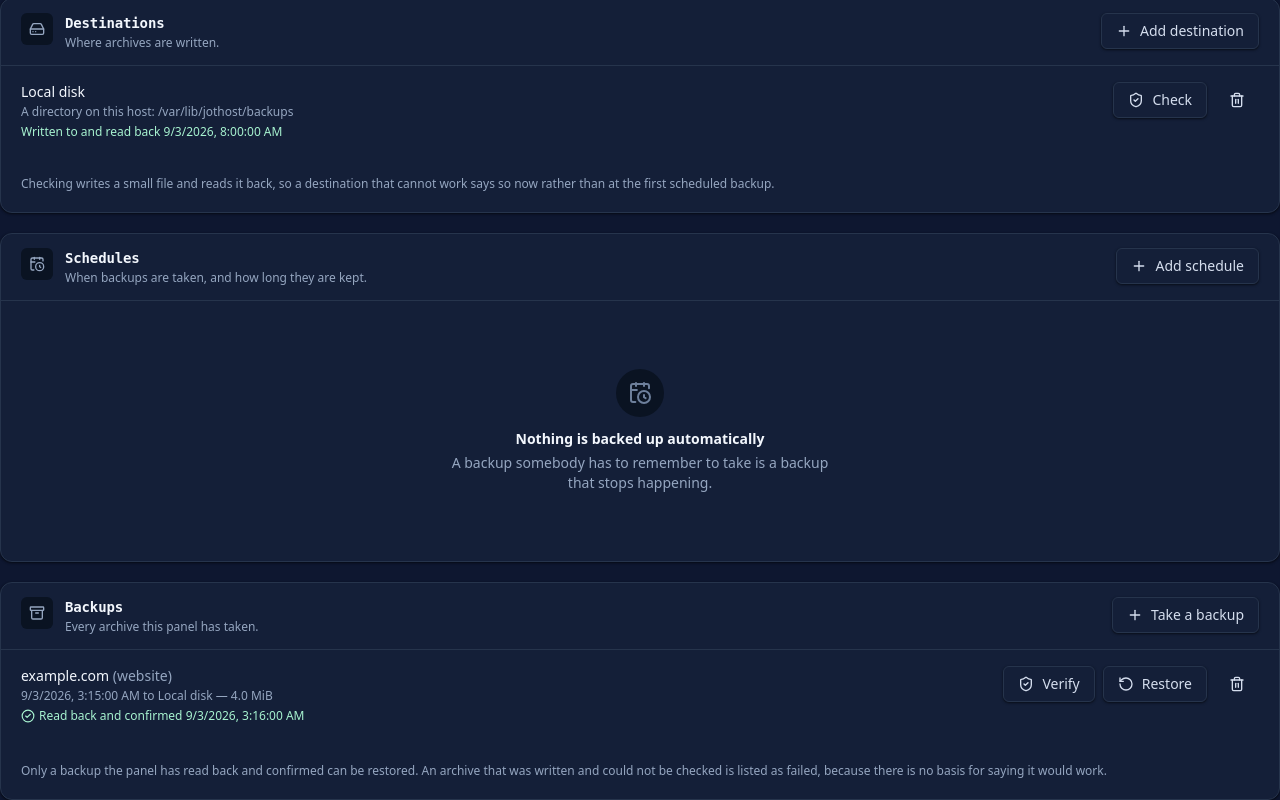
Scenario: BackupsPage › confirms before deleting an archive, and says it cannot be got back
(page scrolled)
Click the button named "Delete the backup of example.com". click: (1237,684)
box: [1215, 666, 1259, 702]
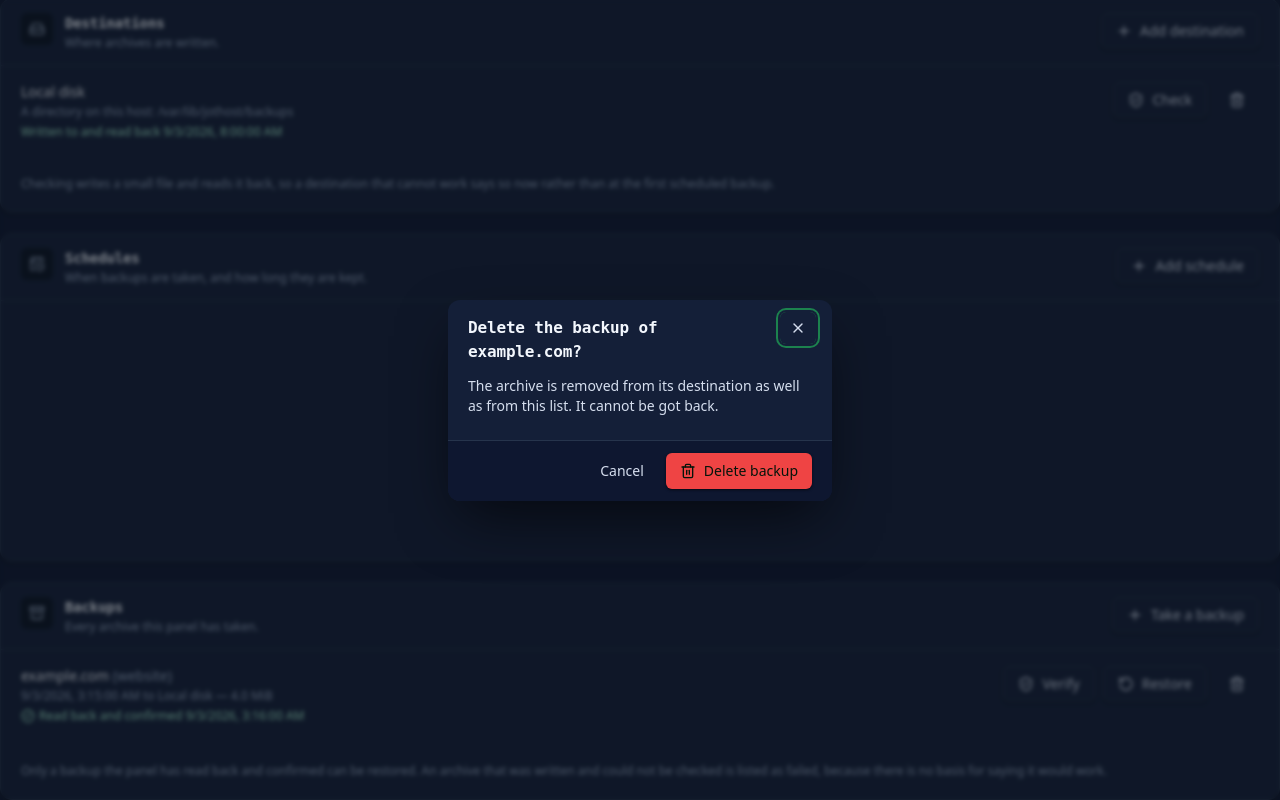
Expected: the text "It cannot be got back" is shown, [468, 376, 800, 414]
